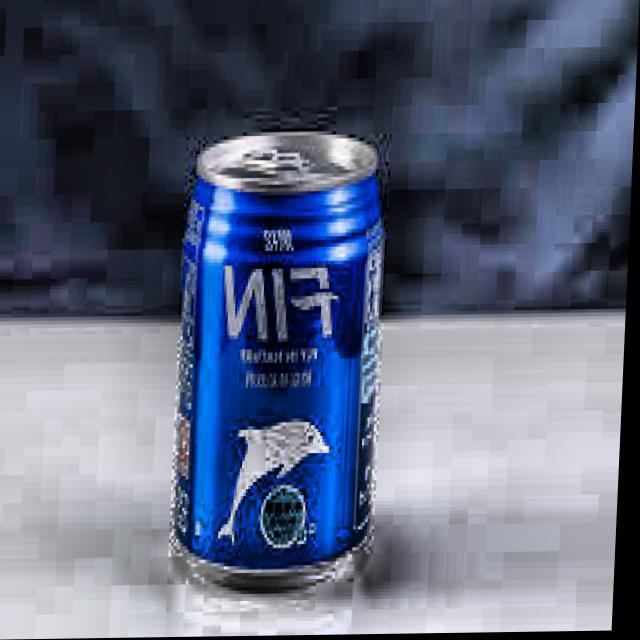can: (168, 124, 399, 602)
